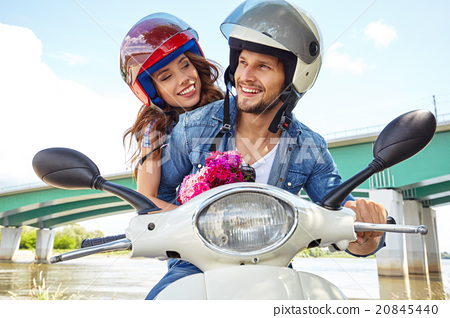helmet: (225, 10, 325, 101), (117, 12, 212, 101)
